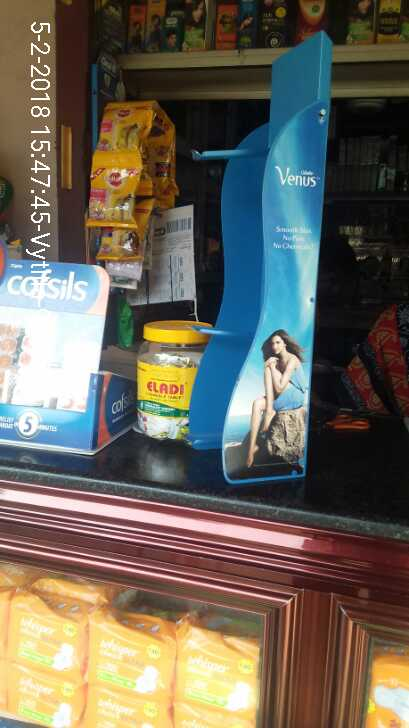reject: (161, 144, 254, 256)
